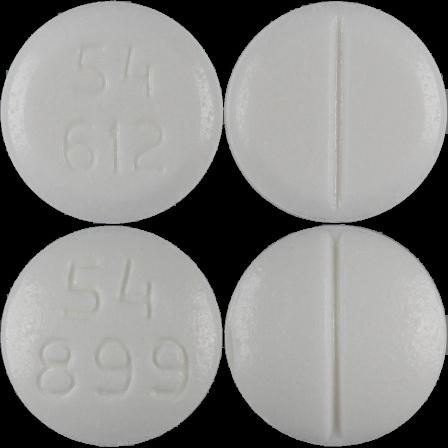76237-227: (0, 0, 224, 224)
